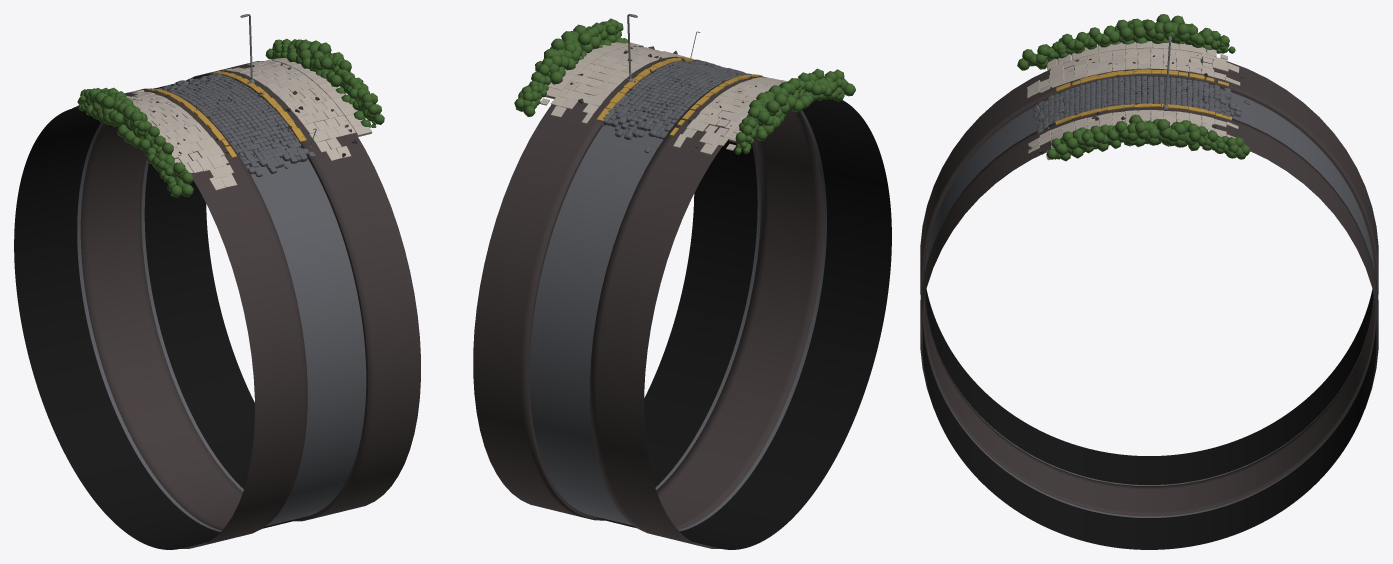
The model's file is pizza_delivery_export.glb.
3 renders of one model, left to right at view 1: azimuth 30°, elevation 25°; view 2: azimuth 150°, elevation 25°; view 3: azimuth 270°, elevation 25°, orthographic. The views are drawn at different scales.
Parts seen in each view (by area): view 1: GEO-pavement_debris, GEO-ground, GEO-road, GN Instance.007; view 2: GEO-pavement_debris, GEO-ground, GEO-road, GN Instance.003, GN Instance.022; view 3: GEO-pavement_debris, GEO-ground, GEO-road, GN Instance.007.
Boxes of the visible parts, x1=… form: GEO-pavement_debris: x1=72, y1=61, x2=420, y2=548; GEO-ground: x1=14, y1=78, x2=304, y2=549; GEO-road: x1=77, y1=122, x2=366, y2=531; GN Instance.007: x1=167, y1=162, x2=193, y2=197; GEO-pavement_debris: x1=473, y1=56, x2=823, y2=548; GEO-ground: x1=594, y1=98, x2=891, y2=549; GEO-road: x1=529, y1=110, x2=826, y2=531; GN Instance.003: x1=749, y1=98, x2=782, y2=134; GN Instance.022: x1=514, y1=86, x2=539, y2=116; GEO-pavement_debris: x1=920, y1=50, x2=1378, y2=516; GEO-ground: x1=922, y1=289, x2=1376, y2=549; GEO-road: x1=924, y1=86, x2=1374, y2=517; GN Instance.007: x1=1017, y1=44, x2=1048, y2=70.
Bounding box in the file's own units: 7.89 × 15.75 × 13.55.
